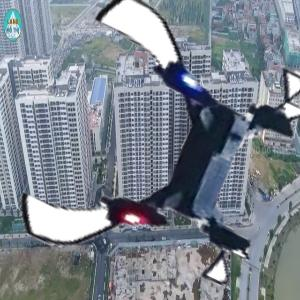drone: (28, 19, 296, 287)
